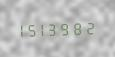eight: (72, 19, 82, 36)
five: (28, 21, 38, 37)
nine: (61, 19, 71, 36)
one: (17, 21, 27, 38), (39, 20, 49, 37)
three: (50, 20, 60, 36)
two: (83, 19, 93, 35)
